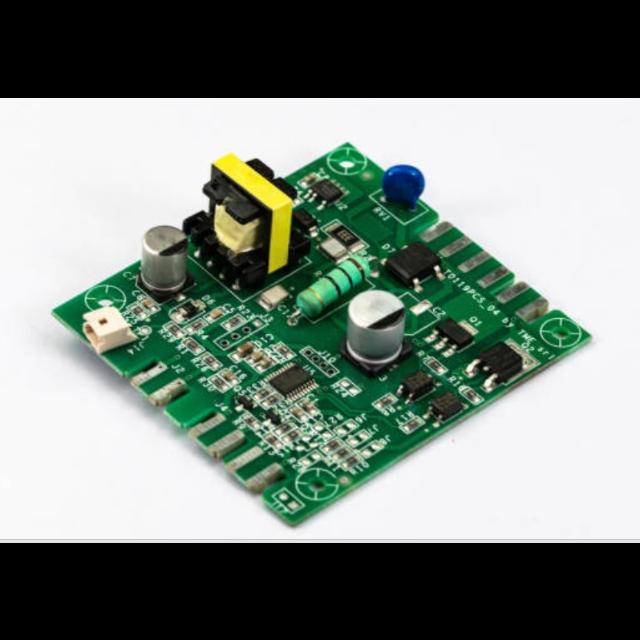PCB: (51, 142, 593, 528)
